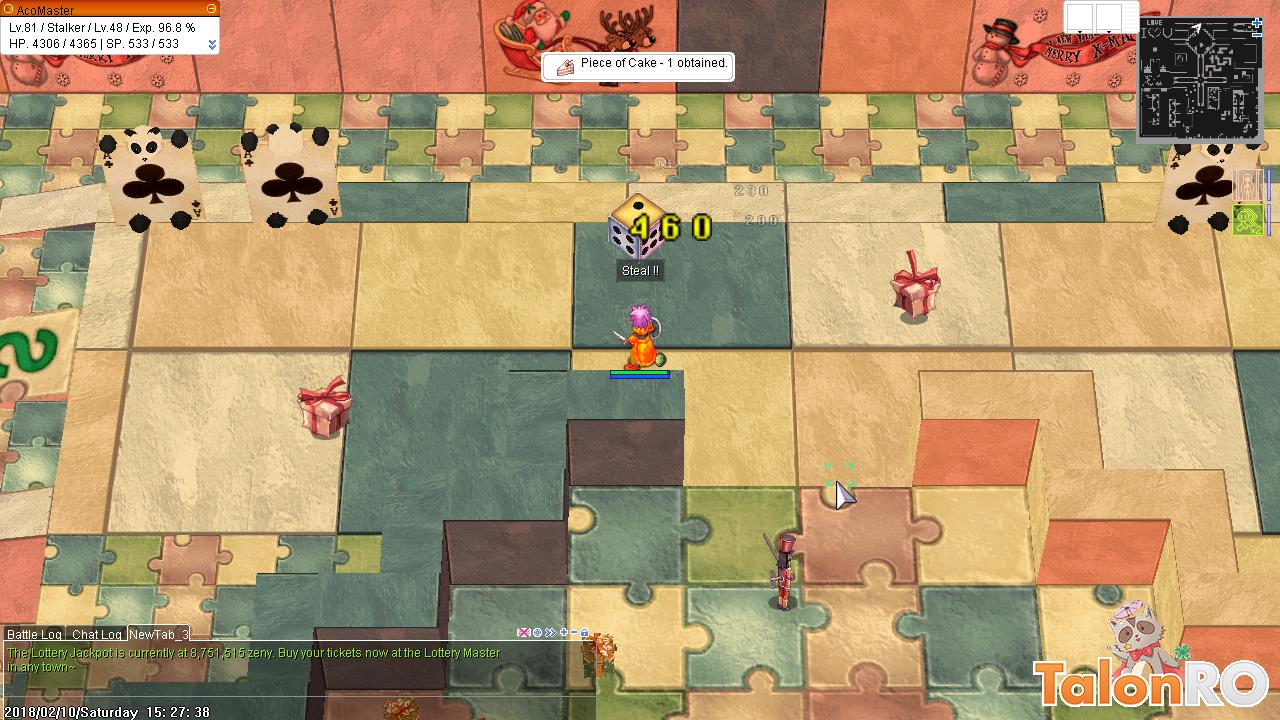loot: (650, 348, 673, 373)
mob: (759, 527, 812, 616)
myst_case: (886, 246, 943, 330), (293, 372, 355, 445)
